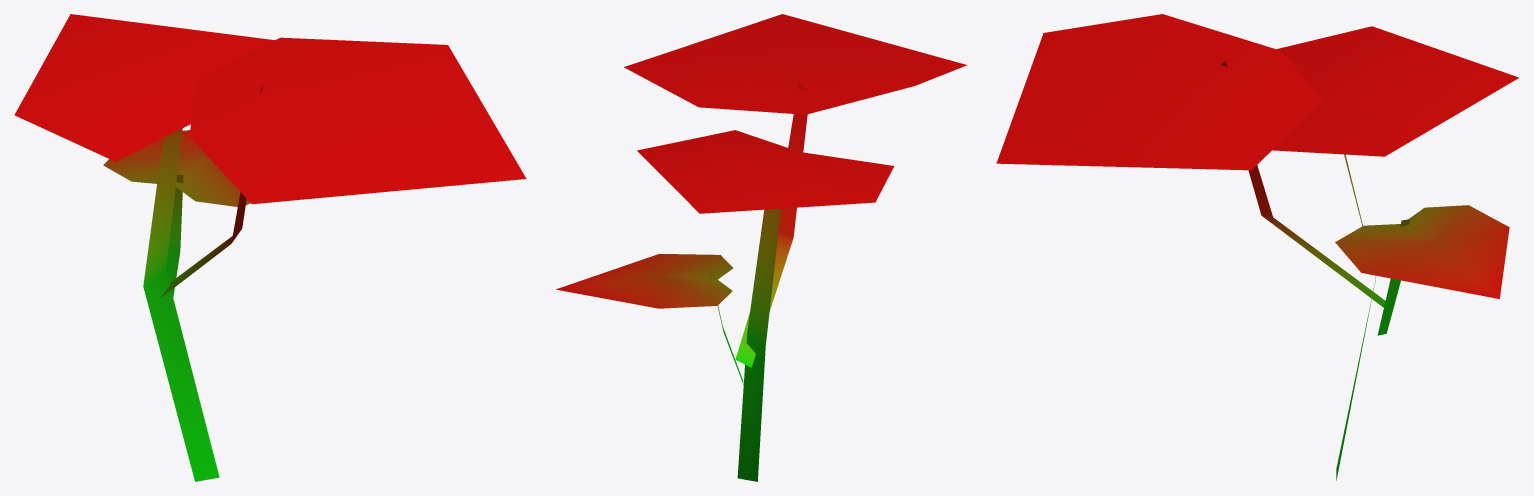
The model's file is Var10_LOD3.fbx.
3 renders of one model, left to right at view 1: azimuth 30°, elevation 25°; view 2: azimuth 150°, elevation 25°; view 3: azimuth 270°, elevation 25°, orthographic. The views are drawn at different scales.
Parts seen in each view (by area): view 1: _q0sq_Var10_LOD3; view 2: _q0sq_Var10_LOD3; view 3: _q0sq_Var10_LOD3.
Boxes of the visible parts, bbox=[...] form: _q0sq_Var10_LOD3: bbox=[14, 14, 526, 481]; _q0sq_Var10_LOD3: bbox=[556, 14, 967, 481]; _q0sq_Var10_LOD3: bbox=[996, 14, 1518, 480].
Size of the model in its own units: 9.87 by 11.25 by 12.88.
